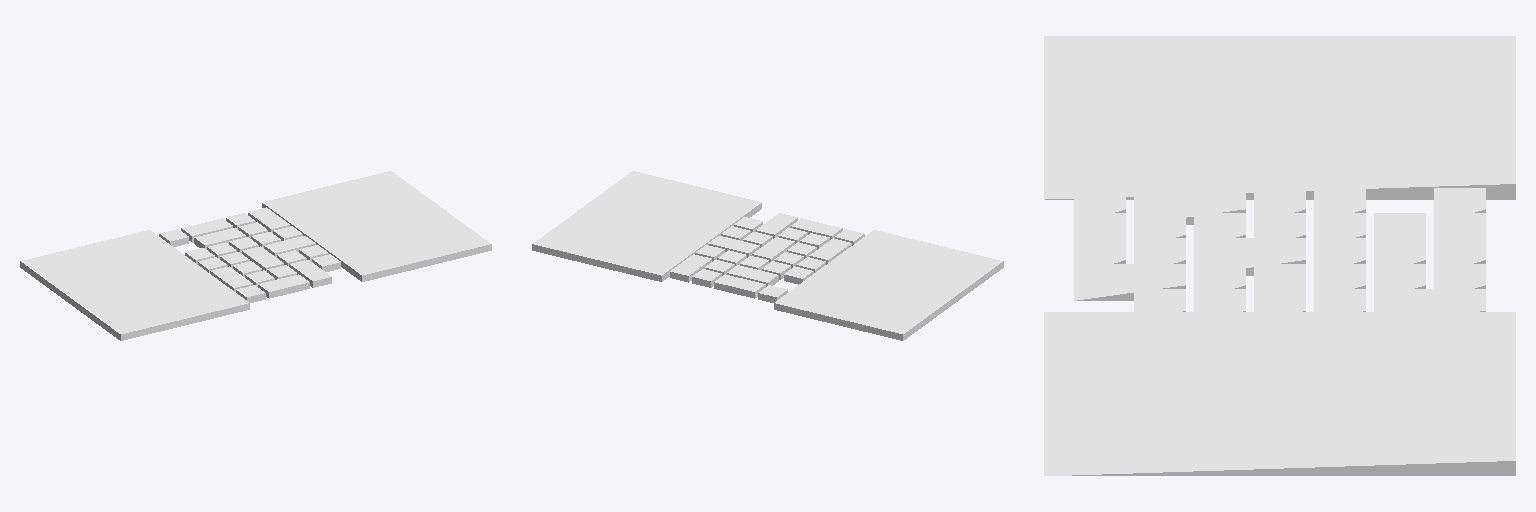
robot.urdf — rubbles_1:
<robot name="rubbles_1">
  <link name="base_link">
    <visual>
      <origin xyz="0 0 0" rpy="0 0 0" />
      <geometry>
        <mesh filename="package://hpp_environments/meshes/multicontact/daeun/rubbles_1.stl"/>
      </geometry>
      <material name="white">
        <color rgba="1 1 1 1"/>
      </material>
    </visual>
    <collision>
      <origin xyz="0 0 0" rpy="0 0 0" />
      <geometry>
        <mesh filename="package://hpp_environments/meshes/multicontact/daeun/rubbles_1.stl"/>
      </geometry>
    </collision>
  </link>
</robot>

--- What the picture shows (computed from the rendered views, not written in the file) ---
3 views of the same robot in one strip: view 1: azimuth 30°, elevation 25°; view 2: azimuth 150°, elevation 25°; view 3: azimuth 270°, elevation 25° (orthographic).
Robot: rubbles_1 — 1 links, 0 joints (none); root link base_link; default pose: every joint at zero.
Visible links, largest first — view 1: base_link; view 2: base_link; view 3: base_link.
Boxes of the visible links, x1,y1,x2,y2 form: base_link: (20,171,491,340); base_link: (532,171,1003,340); base_link: (1044,36,1515,475).
Size in the robot's own frame: 5.88 by 2.75 by 0.1 metres.
1 mesh visuals loaded from 1 distinct referenced files (1 binary STL).
